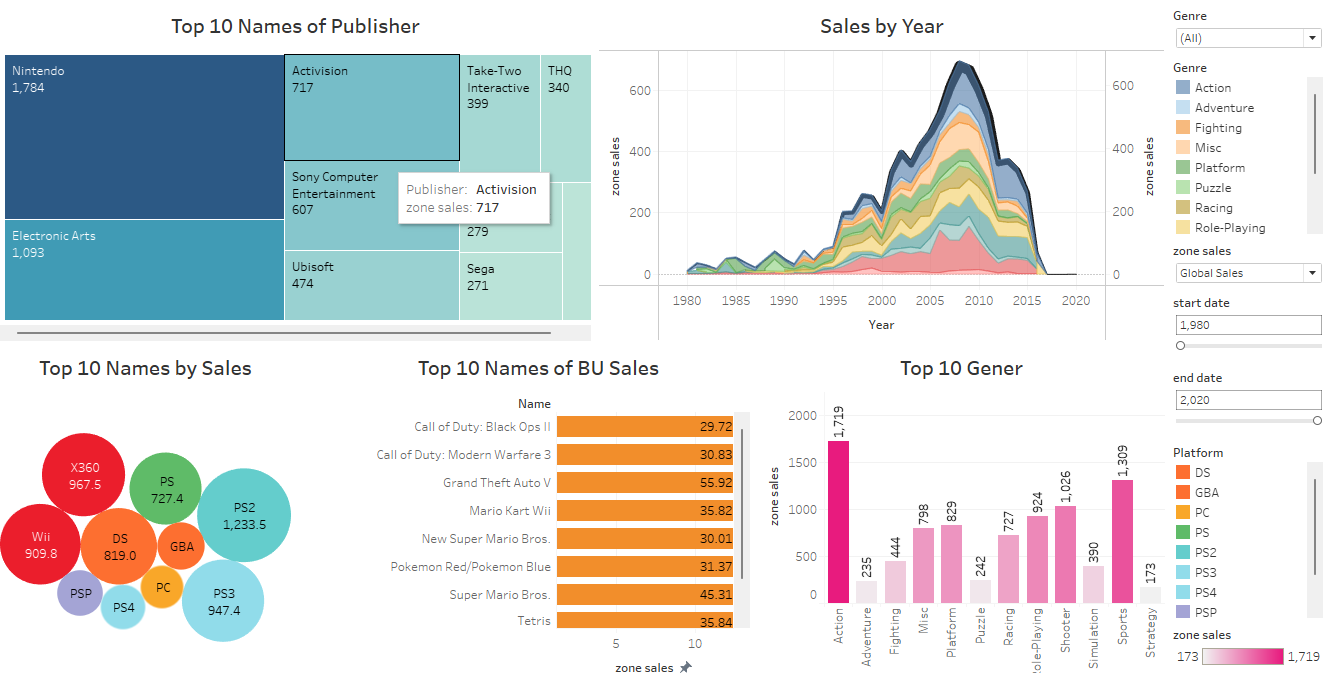

The dashboard page shown, as its layout file describes it:
{"tool":"tableau","page":{"name":"Dashboard 1","canvas":[1000,1000],"units":"permille","ordinal":0},"visuals":[{"type":"worksheet","title":"top 10 names of publisher","mark":"Automatic","box":[5.7,10,446.4,490]},{"type":"worksheet","title":"sales by year","mark":"Line","rows":["Calculation_763078668164648960","Calculation_763078668164648960"],"cols":["Year"],"box":[452.1,10,427.9,490]},{"type":"filter","title":"sales by year","param":"[federated.08hsny10sagxh519o7ozi1wdgmwp].[none:Genre:nk]","box":[880,10,114.3,65]},{"type":"legend","title":"sales by year","param":"[federated.08hsny10sagxh519o7ozi1wdgmwp].[none:Genre:nk]","box":[880,75,114.3,298.8]},{"type":"parameter","param":"[Parameters].[Parameter 1]","box":[880,373.8,114.3,65]},{"type":"parameter","param":"[Parameters].[Parameter 2]","box":[880,438.8,114.3,93.8]},{"type":"worksheet","title":"top 10 names by sales","mark":"Circle","box":[5.7,500,256.4,490]},{"type":"worksheet","title":"top 10 names of BU sales","mark":"Automatic","rows":["Name"],"cols":["Calculation_763078668164648960"],"box":[262.1,500,308.9,490]},{"type":"worksheet","title":"top 10 gener","mark":"Automatic","rows":["Calculation_763078668164648960"],"cols":["Genre"],"box":[571,500,309,490]},{"type":"parameter","param":"[Parameters].[Parameter 3]","box":[880,532.5,114.3,93.8]},{"type":"legend","title":"top 10 names by sales","param":"[federated.08hsny10sagxh519o7ozi1wdgmwp].[none:Platform:nk]","box":[880,626.2,114.3,282.5]},{"type":"legend","title":"top 10 gener","param":"[federated.08hsny10sagxh519o7ozi1wdgmwp].[sum:Calculation_763078668164648960:qk]","box":[880,908.8,114.3,81.2]}]}

Visuals, with their boxes on the dashboard's canvas, which has no fixed pixel size, in thousandths of its width and height (x1, y1, x2, y2). These are canvas units, not pixel positions in the 1337x673 screenshot, which may show the page scaled, cropped or inside an application window:
"top 10 names of publisher" worksheet: 6 10 452 500
"sales by year" worksheet (Line marks): 452 10 880 500
"sales by year" filter: 880 10 994 75
"sales by year" legend: 880 75 994 374
parameter: 880 374 994 439
parameter: 880 439 994 533
"top 10 names by sales" worksheet (Circle marks): 6 500 262 990
"top 10 names of BU sales" worksheet: 262 500 571 990
"top 10 gener" worksheet: 571 500 880 990
parameter: 880 532 994 626
"top 10 names by sales" legend: 880 626 994 909
"top 10 gener" legend: 880 909 994 990
